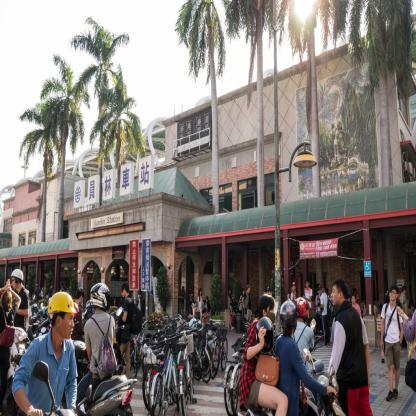Helmet: (47, 289, 80, 318), (253, 316, 278, 351), (276, 299, 298, 336), (89, 281, 111, 312), (298, 296, 312, 322), (10, 269, 24, 287), (187, 316, 199, 333), (83, 302, 91, 312)
